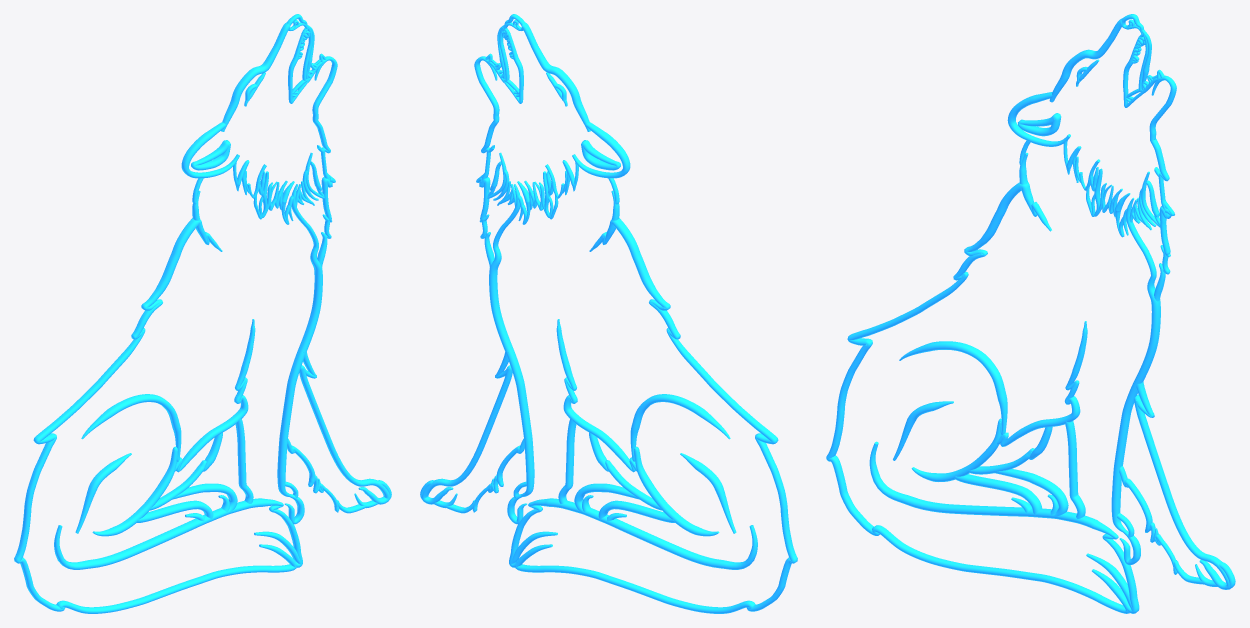
Rendered from wolf-constellation-dhazele-2-new-mat.glb.
The picture shows the model from 3 angles, left to right: view 1: azimuth 30°, elevation 25°; view 2: azimuth 150°, elevation 25°; view 3: azimuth 330°, elevation 25°; orthographic projection. The views are drawn at different scales.
Visible parts, largest first — view 1: wolf; view 2: wolf; view 3: wolf.
Part boxes in pixels (x1,y1,x2,y2): wolf: (14,14,391,613); wolf: (420,14,797,613); wolf: (826,14,1235,613).
Size of the model in its own units: 2.43 by 3.42 by 0.06.
